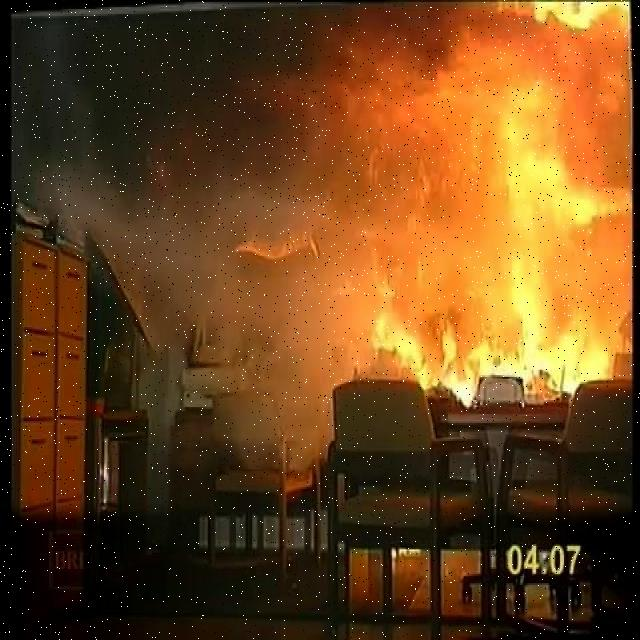fire: (392, 20, 612, 420)
